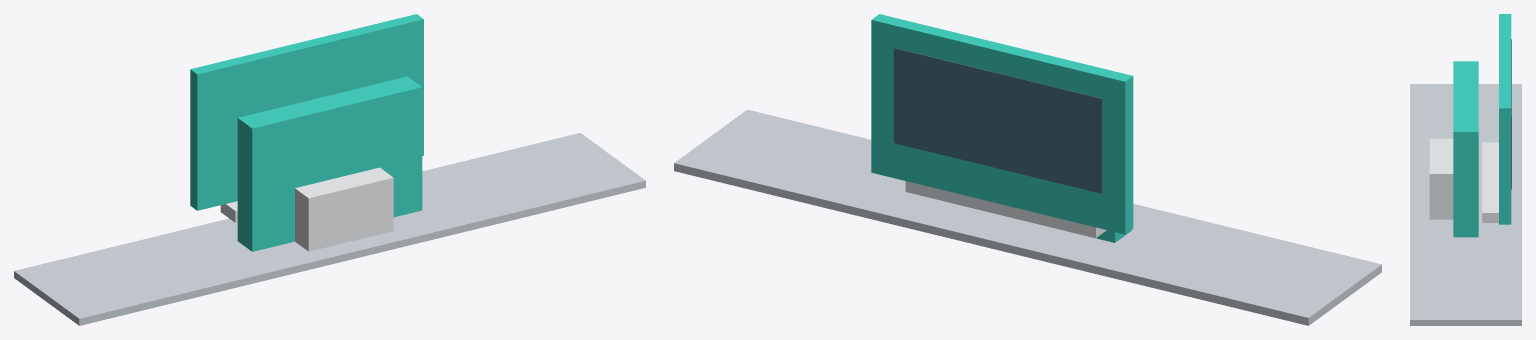
3 views of the same model, side by side, from view 1: azimuth 30°, elevation 25°; view 2: azimuth 150°, elevation 25°; view 3: azimuth 270°, elevation 25° (orthographic). The views are drawn at different scales.
Visible parts, largest first — view 1: Exhibition Booth Concept; view 2: Exhibition Booth Concept; view 3: Exhibition Booth Concept.
Part boxes in pixels (box(x1,y1,x2,y2)): Exhibition Booth Concept: box(14, 14, 645, 325); Exhibition Booth Concept: box(674, 14, 1381, 325); Exhibition Booth Concept: box(1410, 14, 1521, 325).
Size of the model in its own units: 10 by 2.9 by 2.
